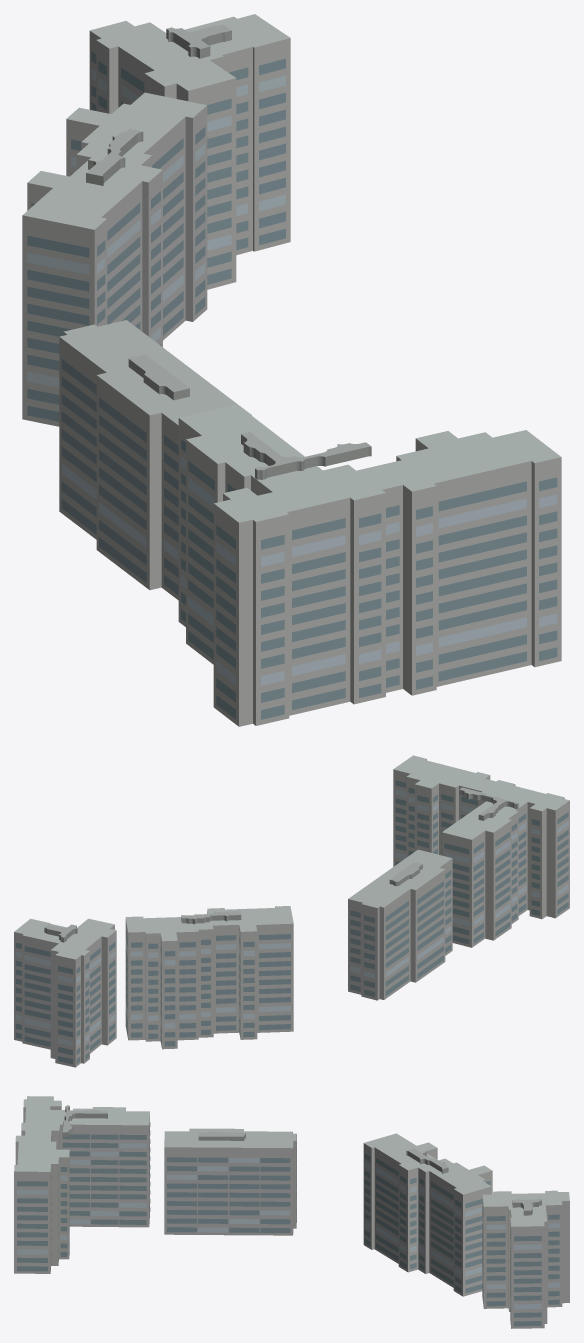
The model's file is apt-a10022341.glb.
3 renders of one model, top to bottom at view 1: azimuth 30°, elevation 25°; view 2: azimuth 150°, elevation 25°; view 3: azimuth 270°, elevation 25°, orthographic. The views are drawn at different scales.
Parts seen in each view (by area): view 1: apt-a10022341; view 2: apt-a10022341; view 3: apt-a10022341.
Boxes of the visible parts, x1,y1,x2,y2 form: apt-a10022341: (22,14,561,726); apt-a10022341: (14,755,569,1067); apt-a10022341: (14,1096,569,1328).
Size of the model in its own units: 91.84 by 35 by 165.
